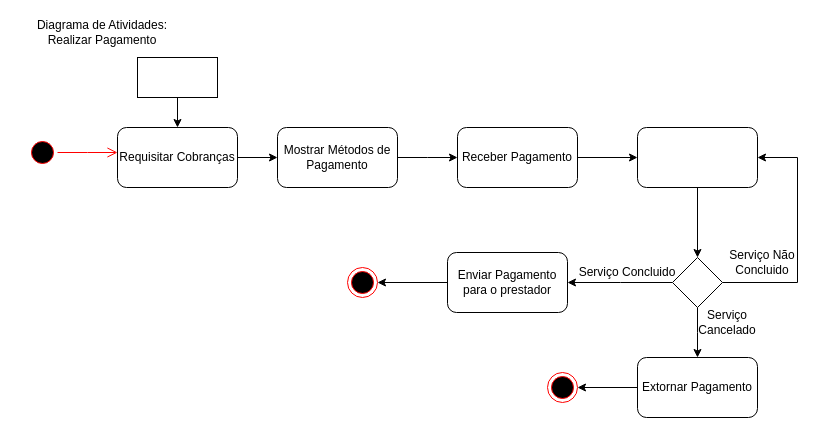
Image size: 834x435. Some labels were removed from this diagram. Each missing label, with the centre of its shape:
":Pagamento" belongs at (x=177, y=77).
"Checar Conclusão do Serviço" belongs at (x=697, y=157).
